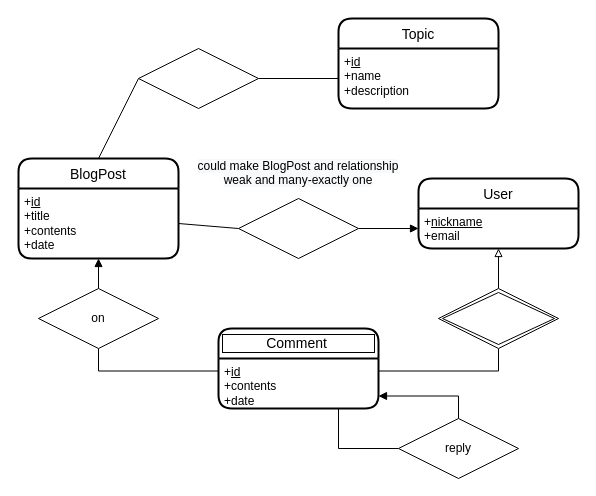
The diagram is 596 pixels wide and 496 high, and some of its shapes have lost their labels. Here are the shapes that lost their labels. From the top down, the centre of each, then its label:
At pixel 198 78: "about".
At pixel 298 228: "writes".
At pixel 498 318: "leaves".
